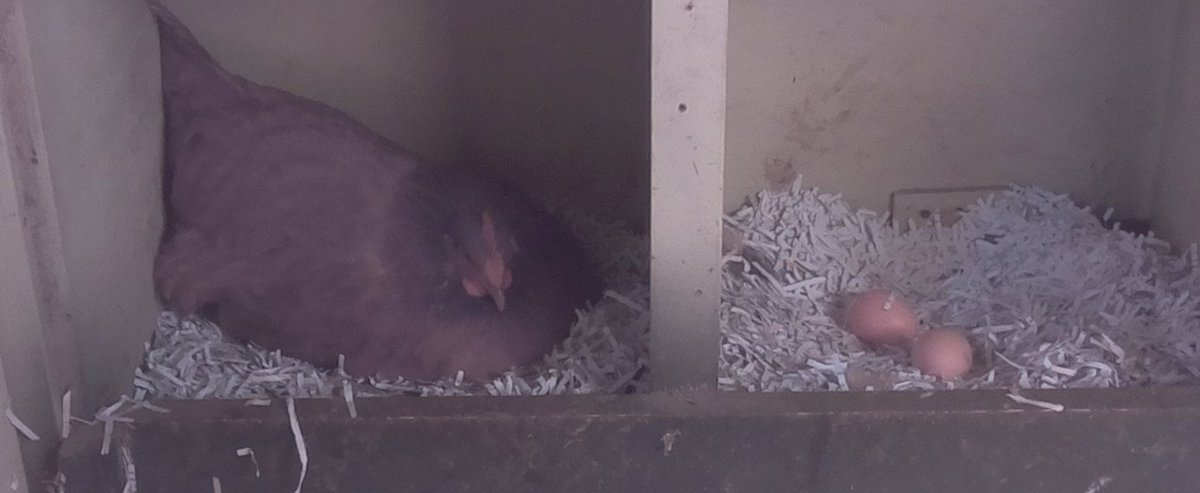egg: (842, 287, 919, 346), (911, 324, 974, 387)
hen: (148, 1, 609, 391)
